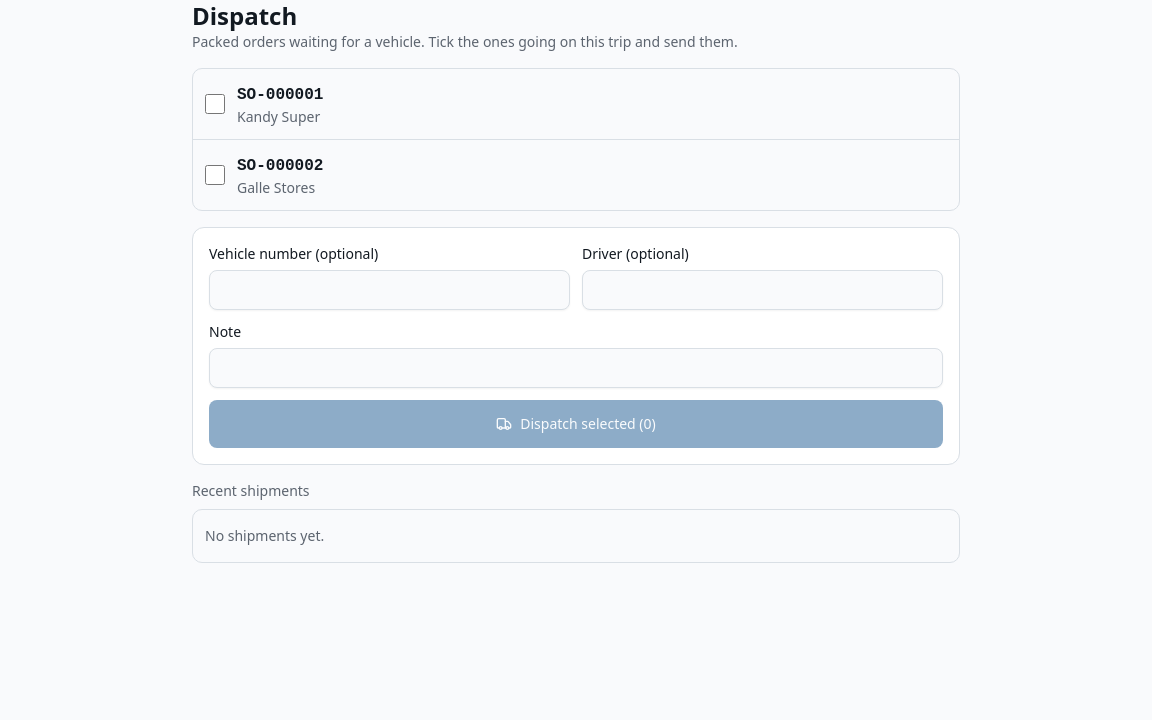
Test: sends the ticked packed orders on one vehicle and says which shipment they left on
The width and height of the screenshot is (1152, 720).
Expected: the button "Dispatch selected (0)" is disabled, x1=209 y1=400 x2=943 y2=448
Click the checkbox labelled "SO-000002 Galle Stores": (215,175) x1=205 y1=165 x2=225 y2=185
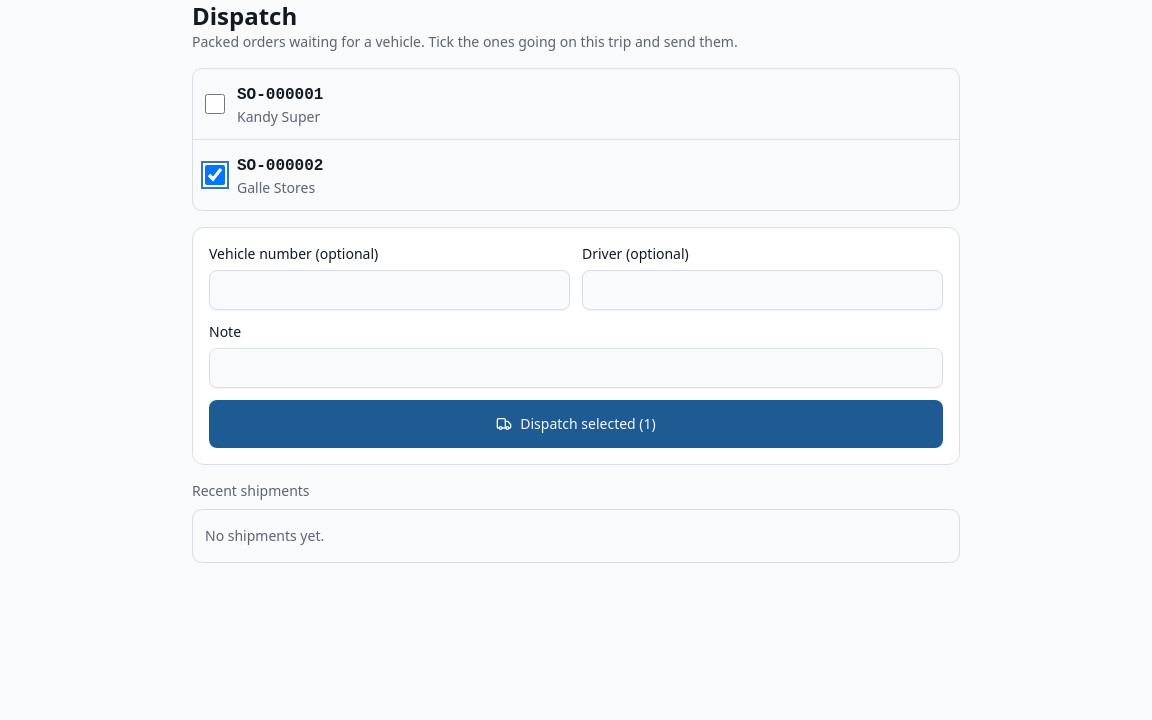
In the field labelled "Vehicle number (optional)": (390,290) x1=209 y1=270 x2=570 y2=310, type "WP CAB-1234"
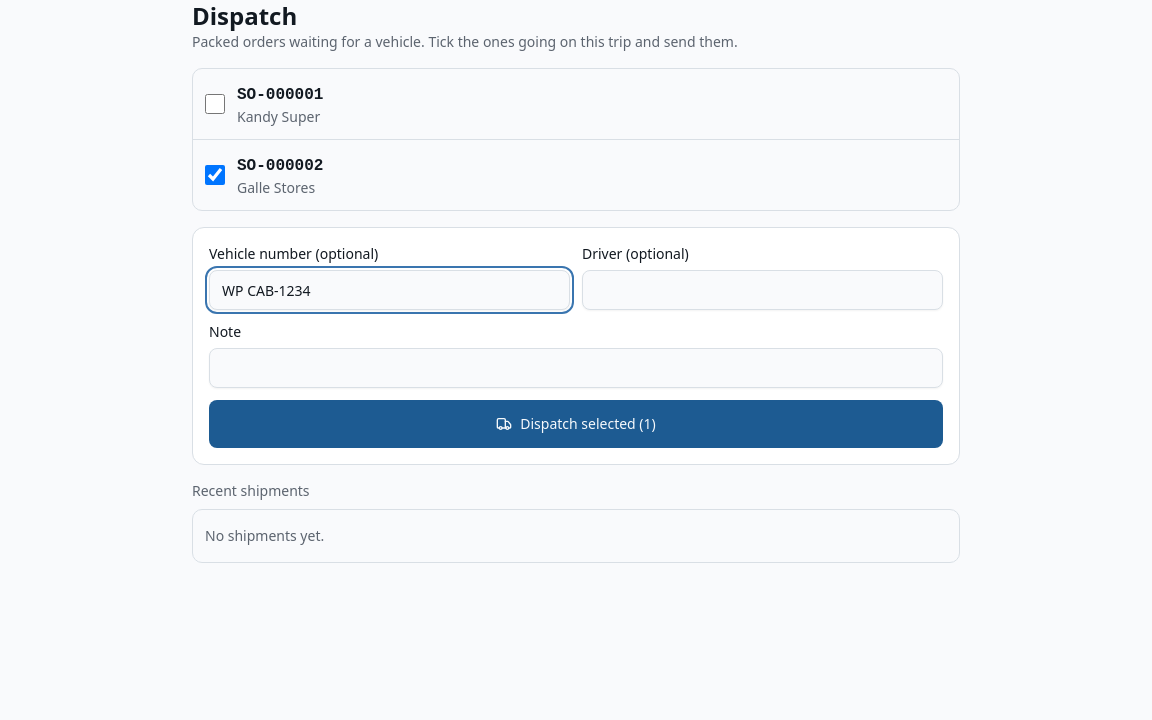
Click the button "Dispatch selected (1)": (576,424) x1=209 y1=400 x2=943 y2=448
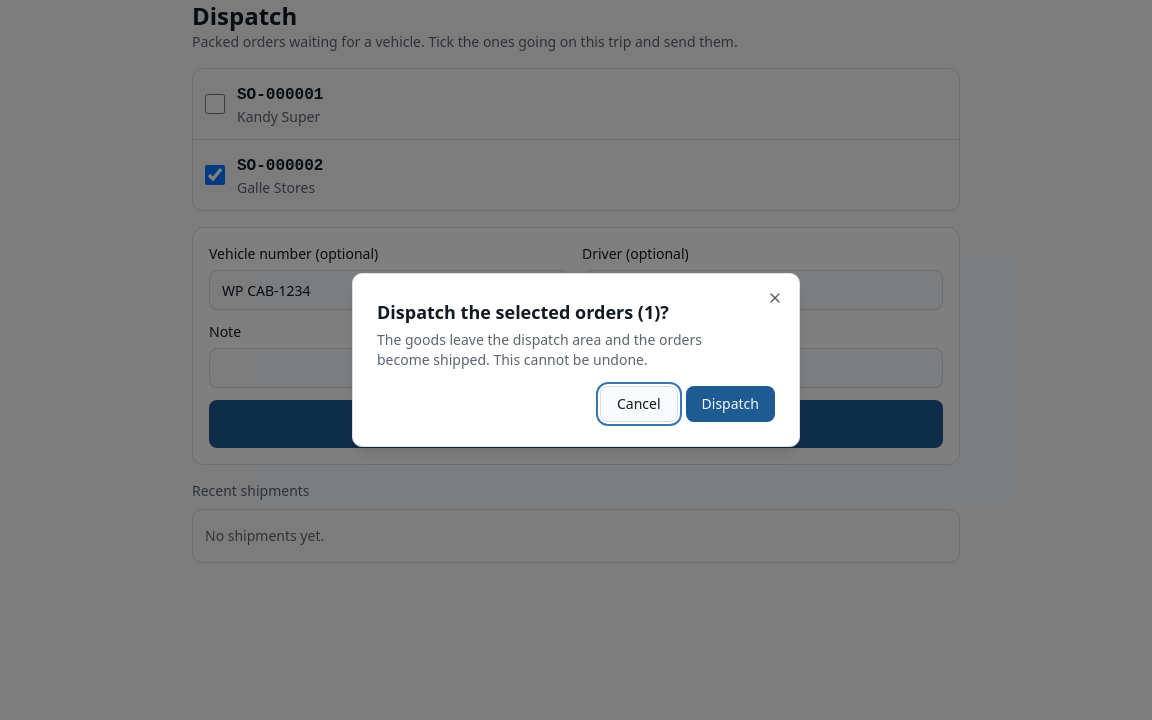
Click the button "Dispatch": (730,404) x1=686 y1=386 x2=775 y2=422
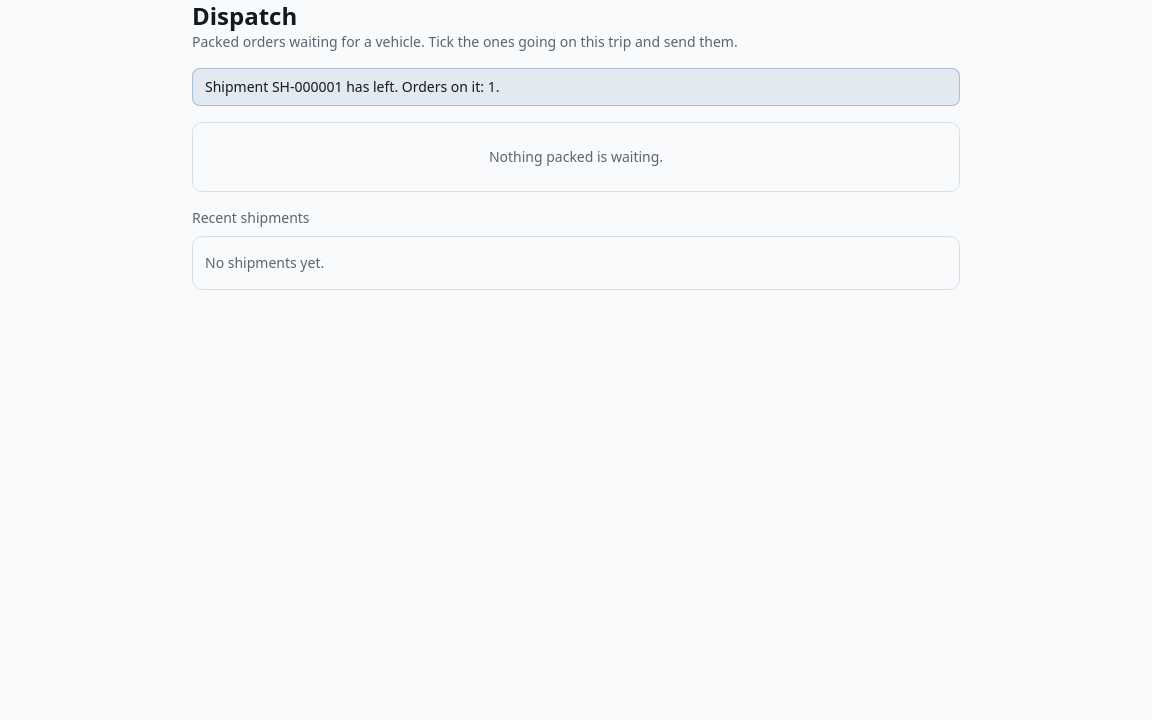
Result: the text "Shipment SH-000001 has left. Orders on it: 1." is shown at x1=192 y1=68 x2=960 y2=106
